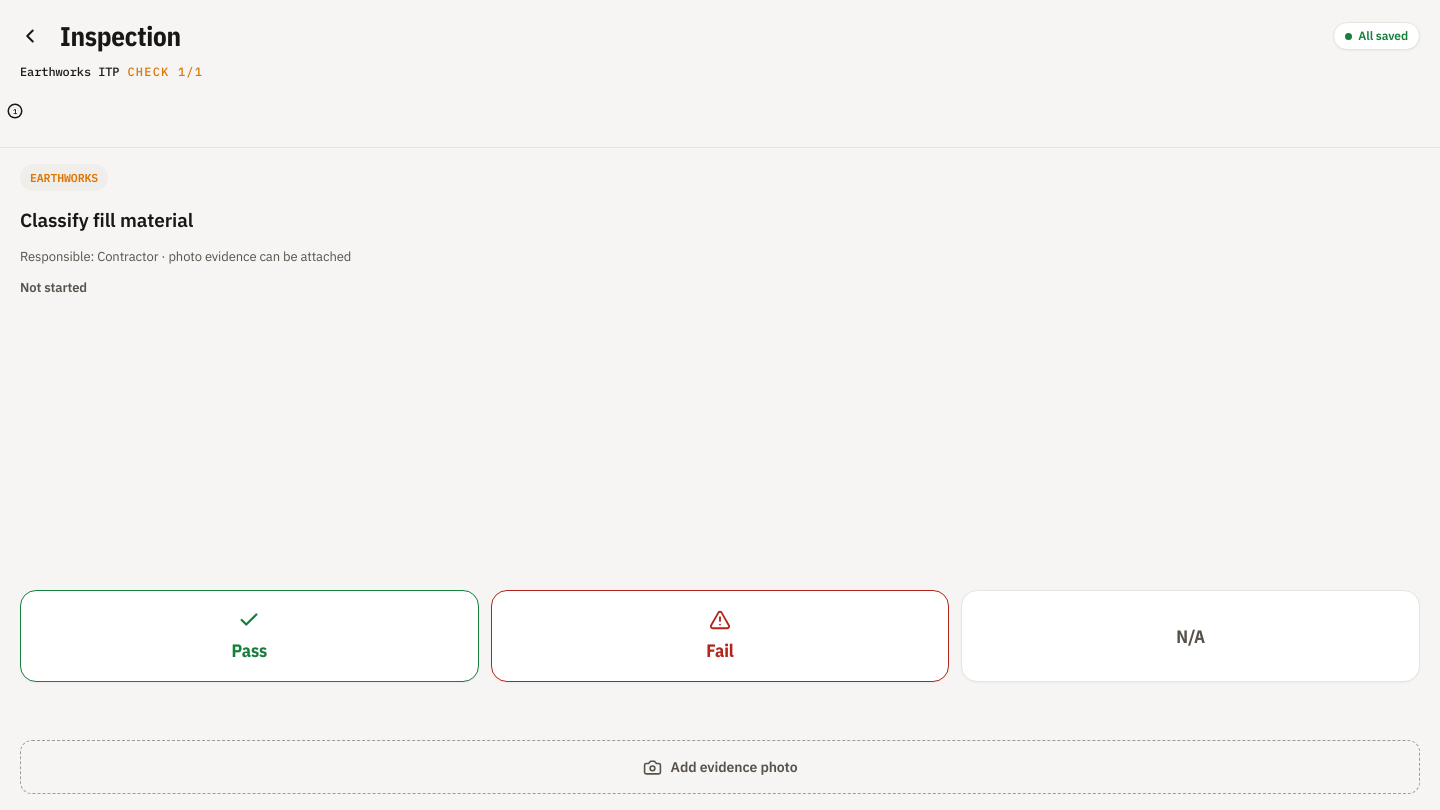
Test case: ItpRunScreen — photo evidence guard › "Add photo" from the guard opens the picker so a photo can be attached
The width and height of the screenshot is (1440, 810).
Step 1. Click the button with aria-label "Pass this check" → (249, 636), box [20,590,479,682]
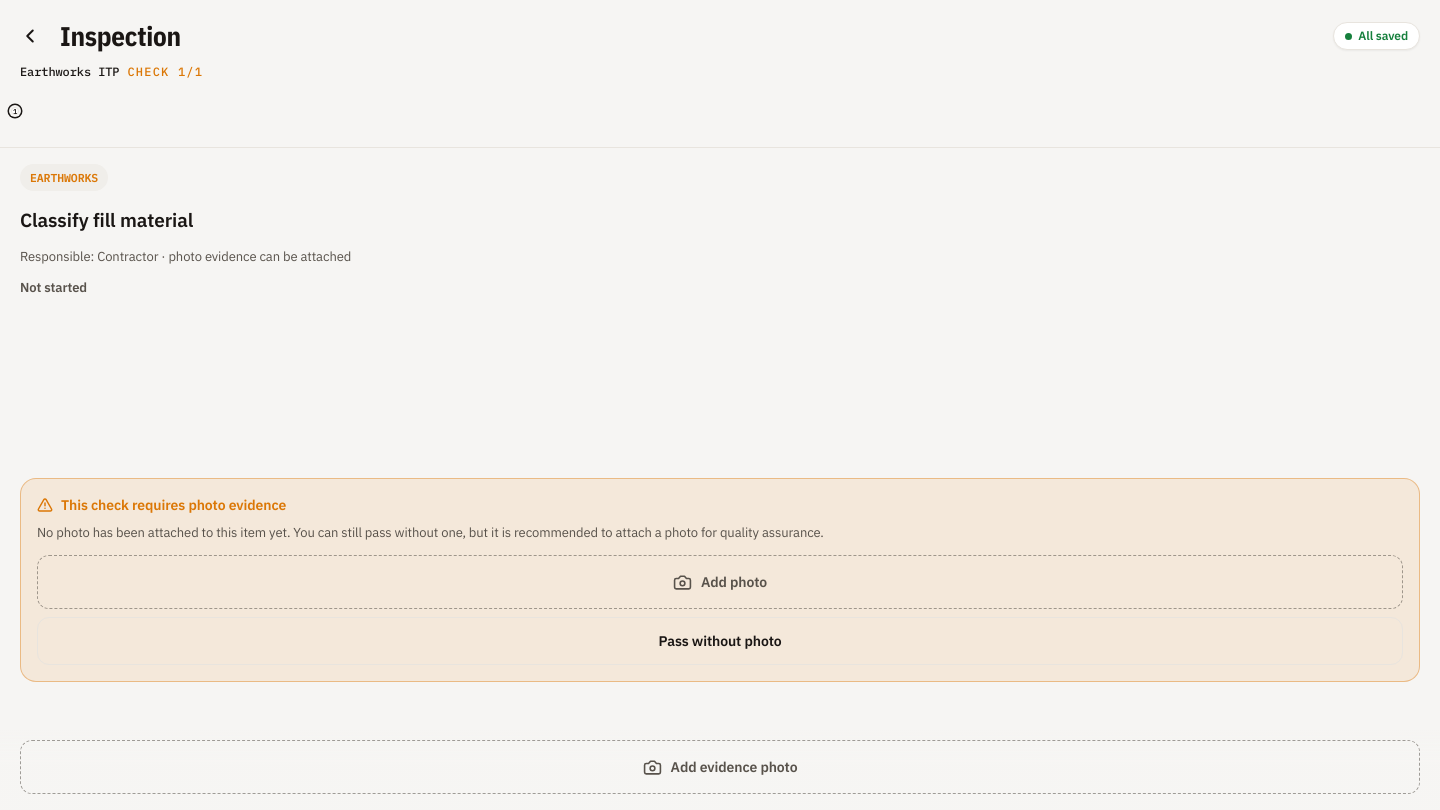
Expected: the button "Add photo" is shown, [37,555,1403,609]
